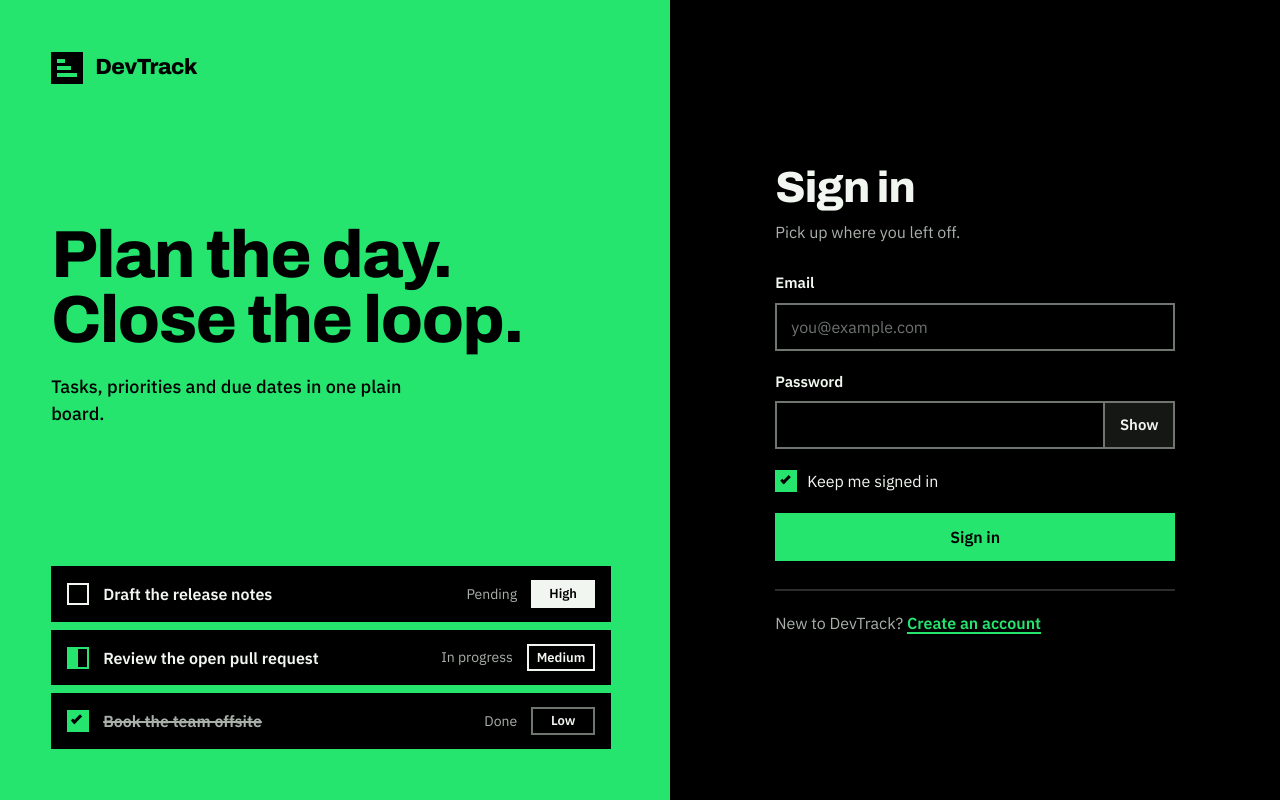
Test: Login page › IT_04: valid credentials sign in, store the session and open the dashboard
This screenshot has width=1280, height=800.
Step 1. Type "priya@demo.com" into the field labelled "Email" → (975,327), box [775,303,1175,351]
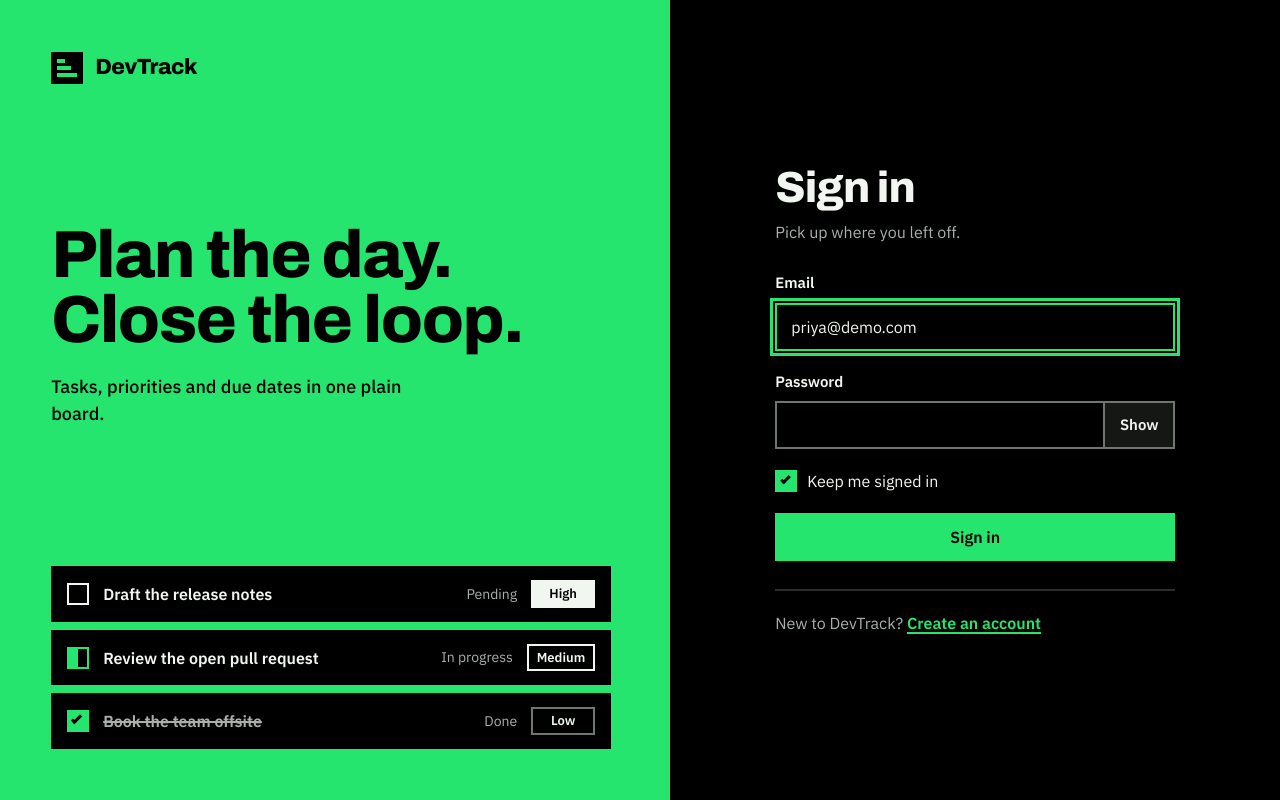
Step 2. Type "Priya@2024" into the password field labelled "Password" → (939,425), box [775,401,1103,449]
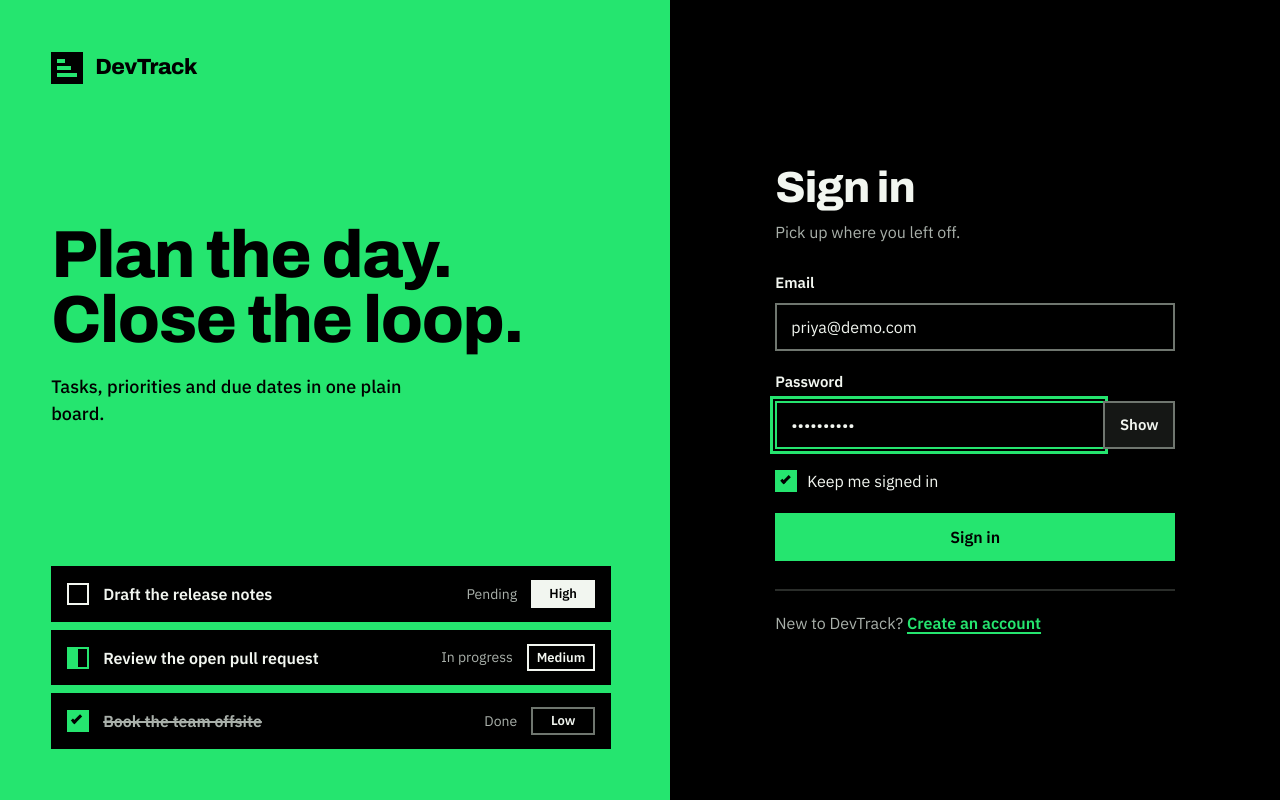
Step 3. Click the button "Sign in" → (975,537), box [775,513,1175,561]
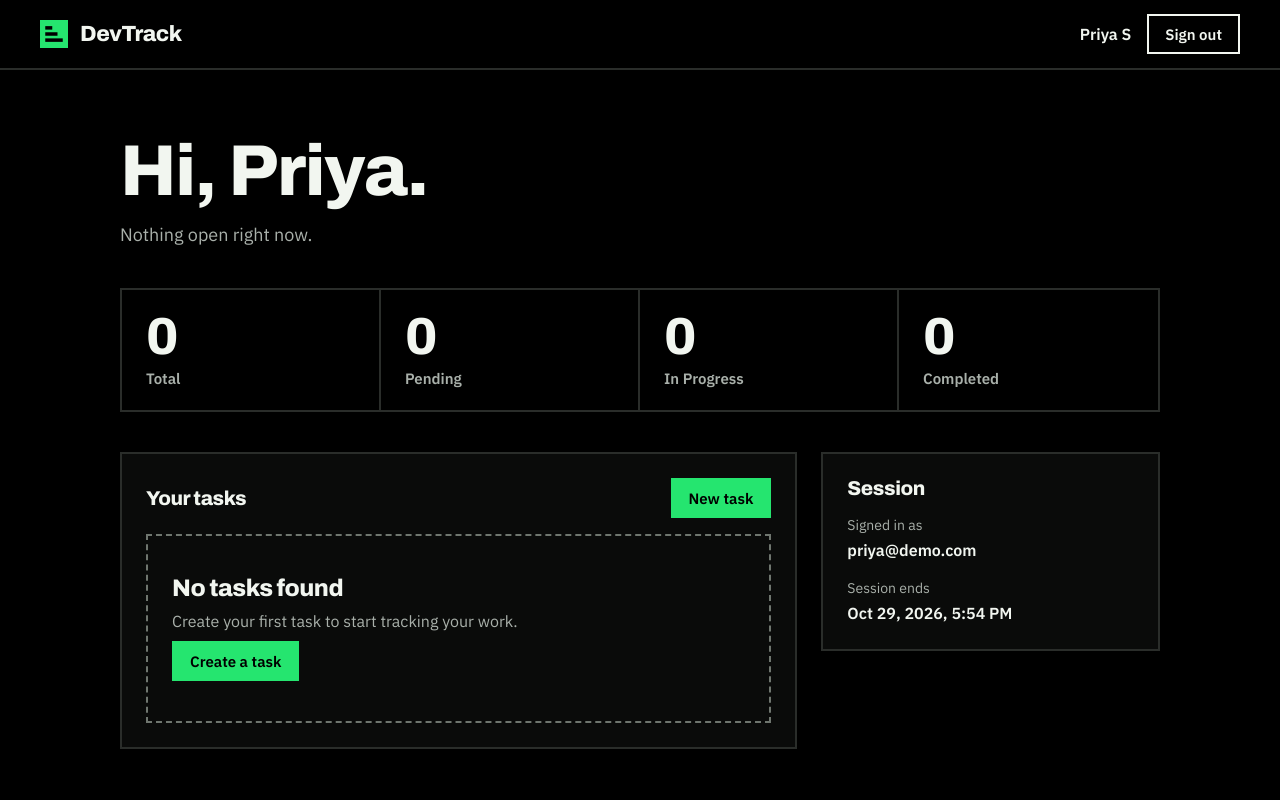
expect the heading "Hi, Priya." is shown: met, box [120,132,428,210]
